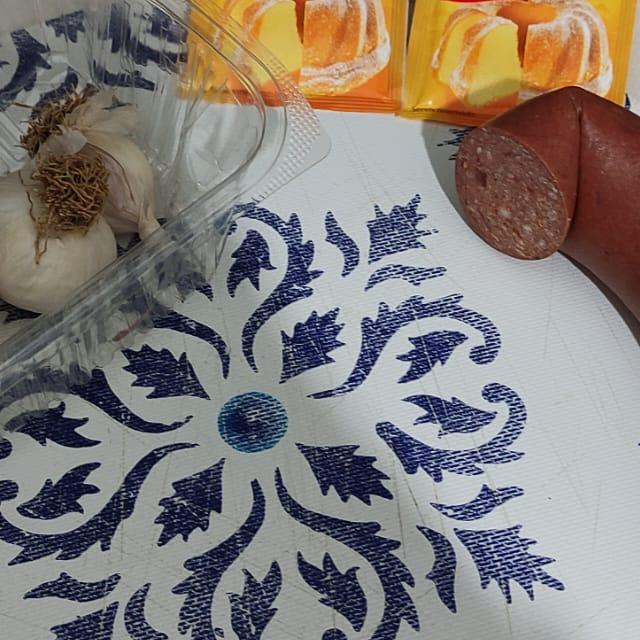garlic: (0, 139, 133, 306)
